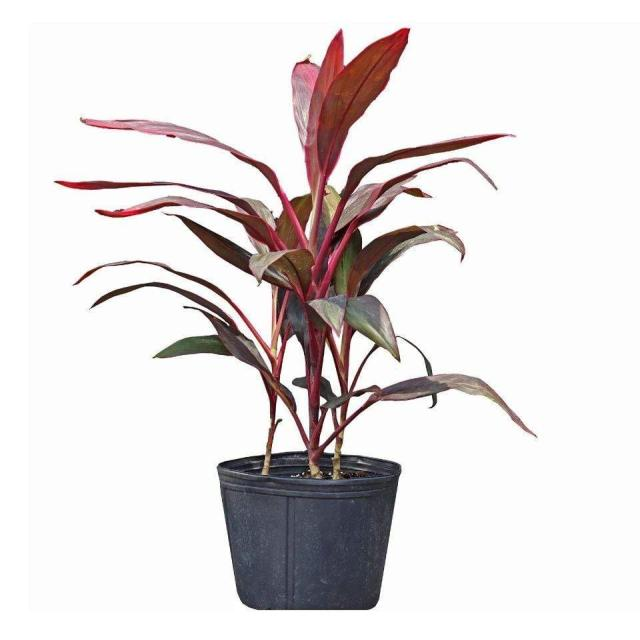Ti: (47, 23, 541, 469)
